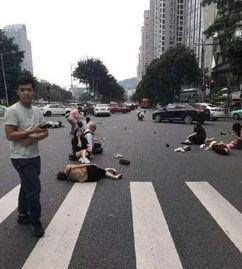Fall-Detected: (68, 123, 91, 160)
